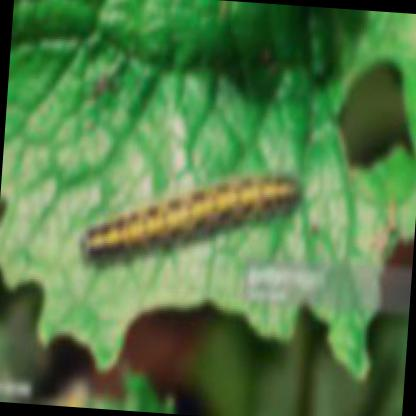pieris: (83, 183, 296, 262)
